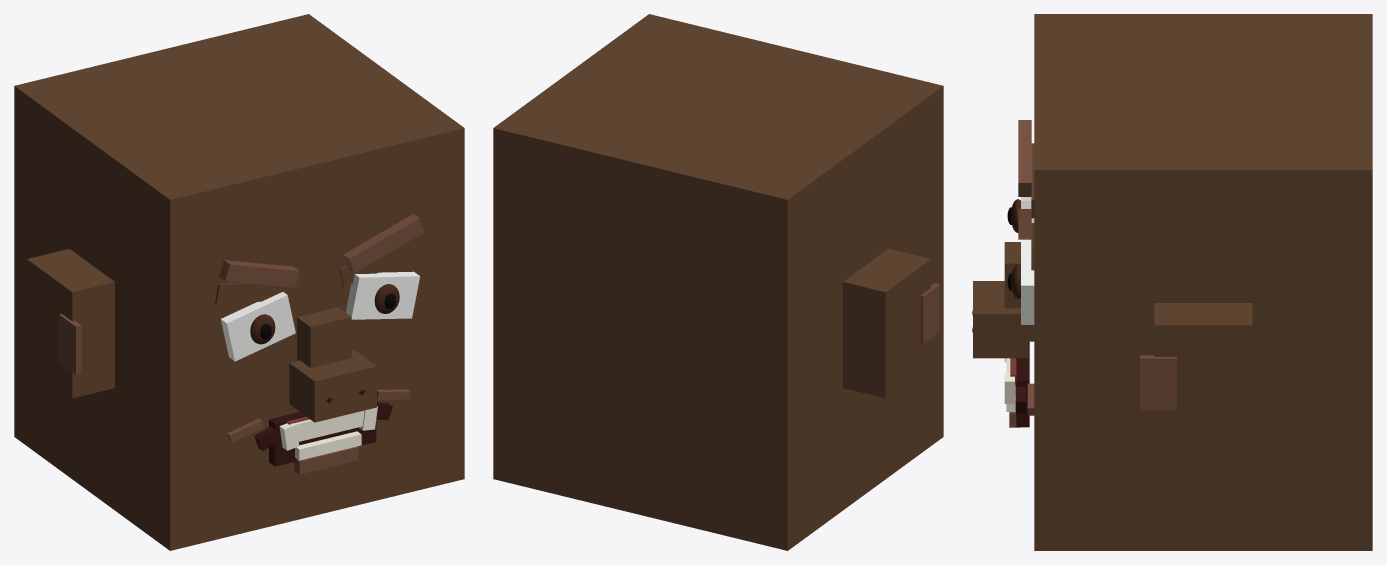
The model's file is skomma_head4.glb.
3 views of the same model, side by side, from view 1: azimuth 30°, elevation 25°; view 2: azimuth 150°, elevation 25°; view 3: azimuth 270°, elevation 25° (orthographic). The views are drawn at different scales.
Visible parts, largest first — view 1: Head, Left_Ear, Nose_Tip, Nose_Bridge, Left_Eye, Right_Eye, Right_Eyebrow, Left_Eyebrow, Mouth, Left_Brow_Ridge, Left_InnerEar, Upper_Teeth (+3 smaller); view 2: Head, Left_Ear, Left_InnerEar; view 3: Head, Right_Ear, Nose_Tip, Right_InnerEar, Right_Eye, Left_Eyebrow, Nose_Bridge, Mouth.
Part boxes in pixels (x1,y1,x2,y2): Head: (14,14,464,550); Left_Ear: (27,249,114,398); Nose_Tip: (289,348,376,422); Nose_Bridge: (297,307,351,367); Left_Eye: (221,292,295,361); Right_Eye: (345,271,419,319); Right_Eyebrow: (343,214,424,273); Left_Eyebrow: (219,260,299,287); Mouth: (269,412,376,466); Left_Brow_Ridge: (215,282,296,304); Left_InnerEar: (59,314,81,374); Upper_Teeth: (291,410,364,441); Head: (493,14,943,550); Left_Ear: (843,249,930,398); Left_InnerEar: (920,283,940,344); Head: (1034,14,1372,550); Right_Ear: (1154,303,1252,440); Nose_Tip: (973,281,1028,358); Right_InnerEar: (1140,355,1176,410); Right_Eye: (1021,239,1034,324); Left_Eyebrow: (1018,120,1031,196); Nose_Bridge: (1004,242,1034,341); Mouth: (1016,341,1029,427).
Size of the model in its own units: 2.35 by 2.05 by 1.95.
